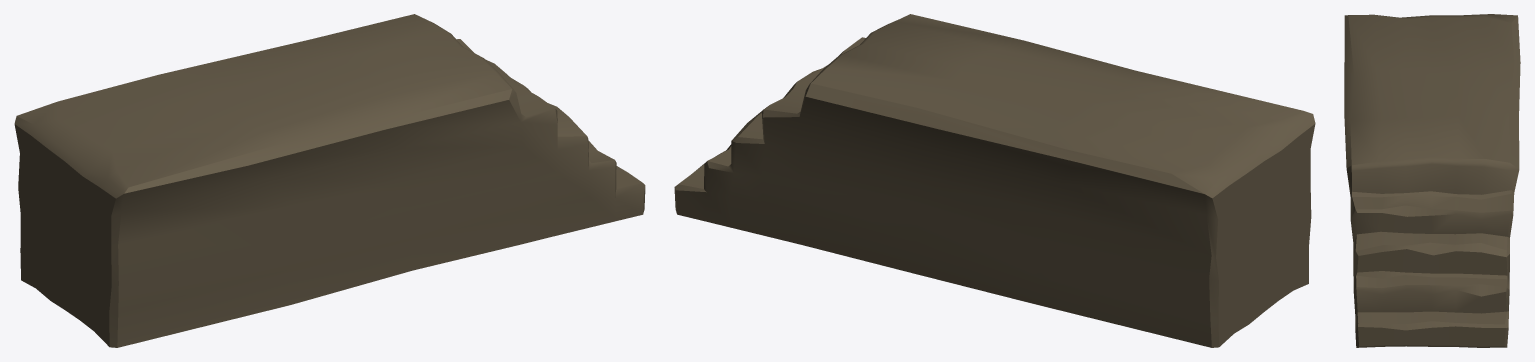
Rendered from stairs.fbx.
3 renders of one model, left to right at view 1: azimuth 30°, elevation 25°; view 2: azimuth 150°, elevation 25°; view 3: azimuth 270°, elevation 25°, orthographic. The views are drawn at different scales.
Parts seen in each view (by area): view 1: Cube.021; view 2: Cube.021; view 3: Cube.021.
Boxes of the visible parts, x1,y1,x2,y2 form: Cube.021: (14,14,645,347); Cube.021: (674,14,1315,347); Cube.021: (1344,14,1520,347).
Size of the model in its own units: 670 by 208 by 236.
